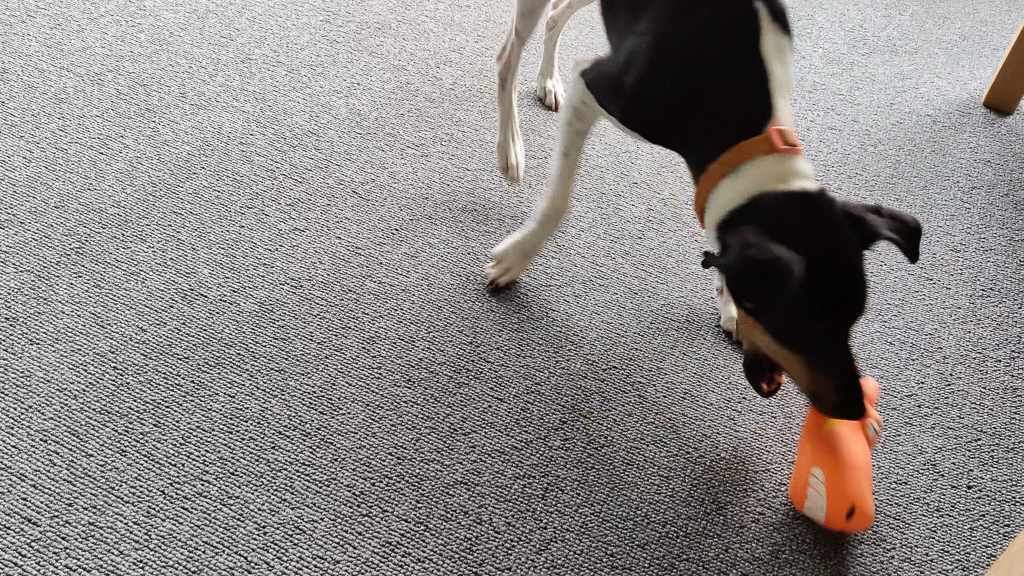Dog: (460, 0, 937, 456)
